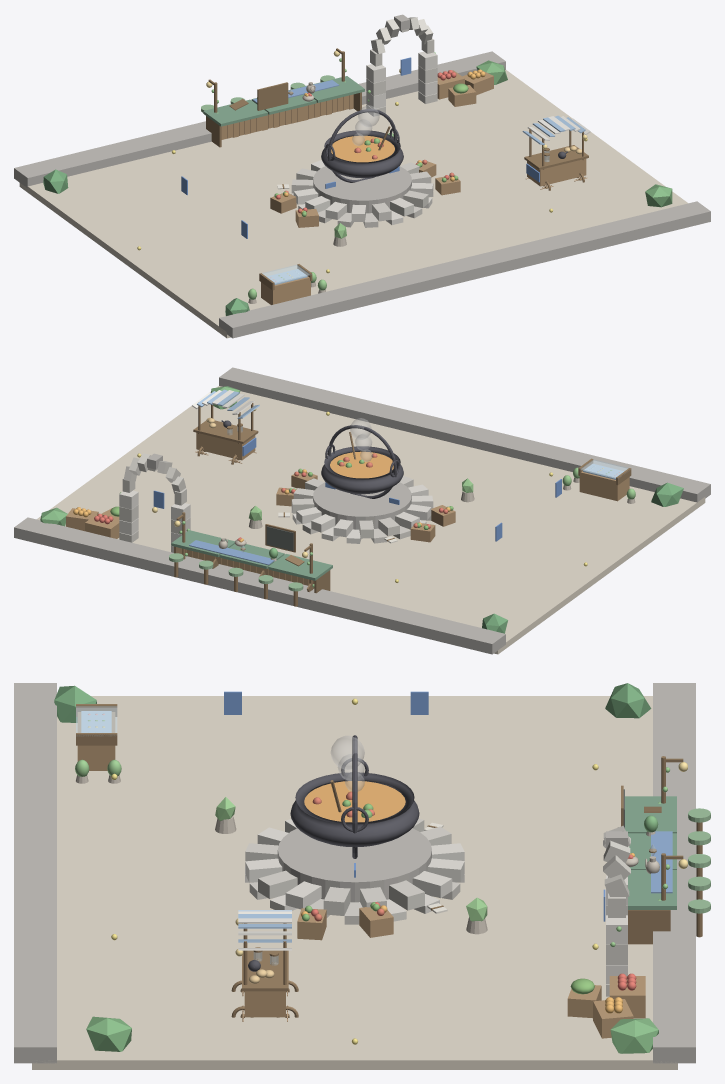
Rendered from restaurant_v2.glb.
3 renders of one model, top to bottom at view 1: azimuth 30°, elevation 25°; view 2: azimuth 150°, elevation 25°; view 3: azimuth 270°, elevation 25°, orthographic. The views are drawn at different scales.
Visible parts, largest first — view 1: ground, border_-1, border_1, hearth_core, cauldron_body, stew, displaycase_body, bar_top_board_2, cart_body, bar_top_board_0, cart_top, blackboard_frame (+3 smaller); view 2: ground, border_1, border_-1, hearth_core, cauldron_body, stew, displaycase_body, bar_top_board_2, cart_body, cart_top, bar_top_board_0, bar_runner (+6 smaller); view 3: ground, border_-1, border_1, hearth_core, cauldron_body, stew, bar_top_board_2, cart_top, bush_3, bar_top_board_0, bush_1, bar_cap_-1 (+22 smaller).
Boxes of the visible parts, bbox=[...] form: ground: bbox=[19, 70, 687, 338]; border_-1: bbox=[219, 201, 710, 338]; border_1: bbox=[14, 51, 505, 187]; hearth_core: bbox=[313, 166, 411, 213]; cauldron_body: bbox=[321, 130, 403, 178]; stew: bbox=[331, 135, 394, 162]; displaycase_body: bbox=[261, 276, 310, 304]; bar_top_board_2: bbox=[203, 99, 267, 126]; cart_body: bbox=[527, 158, 586, 186]; bar_top_board_0: bbox=[300, 76, 364, 102]; cart_top: bbox=[524, 145, 588, 169]; blackboard_frame: bbox=[257, 82, 288, 110]; ground: bbox=[36, 386, 705, 654]; border_1: bbox=[14, 517, 505, 654]; border_-1: bbox=[219, 367, 710, 502]; hearth_core: bbox=[313, 482, 411, 529]; cauldron_body: bbox=[321, 446, 403, 494]; stew: bbox=[330, 451, 393, 478]; displaycase_body: bbox=[579, 471, 629, 501]; bar_top_board_2: bbox=[268, 554, 332, 580]; cart_body: bbox=[196, 432, 255, 460]; cart_top: bbox=[193, 420, 258, 443]; bar_top_board_0: bbox=[171, 530, 234, 557]; bar_runner: bbox=[189, 540, 274, 565]; ground: bbox=[32, 696, 677, 1069]; border_-1: bbox=[14, 683, 56, 1063]; border_1: bbox=[653, 683, 695, 1063]; hearth_core: bbox=[277, 828, 431, 902]; cauldron_body: bbox=[290, 772, 419, 846]; stew: bbox=[304, 781, 405, 822]; bar_top_board_2: bbox=[625, 796, 676, 833]; cart_top: bbox=[242, 950, 288, 991]; bush_3: bbox=[610, 1018, 658, 1053]; bar_top_board_0: bbox=[628, 870, 676, 909]; bush_1: bbox=[86, 1016, 131, 1051]; bar_cap_-1: bbox=[628, 910, 670, 944].
Size of the model in its own units: 24 by 4.88 by 19.42.
